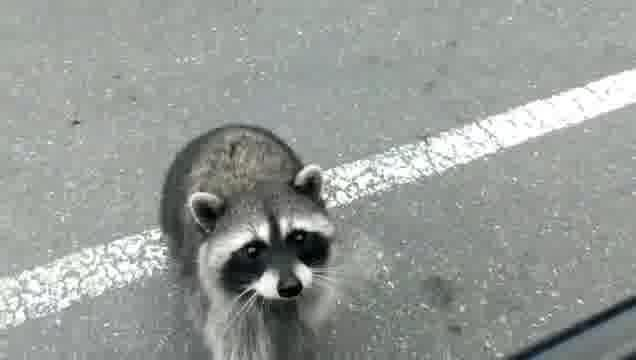raccoon: (158, 121, 336, 360)
